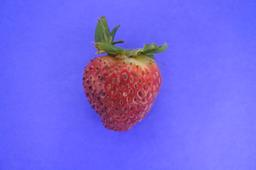red strawberry: (81, 40, 164, 133)
